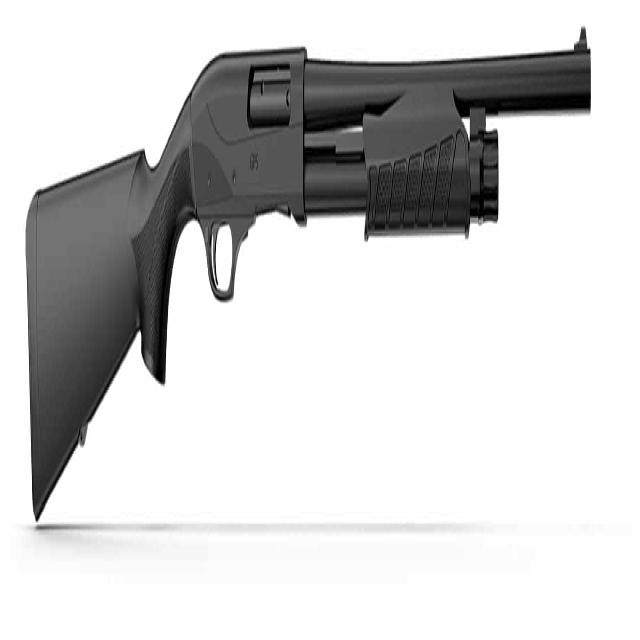ShotGun: (27, 29, 593, 521)
